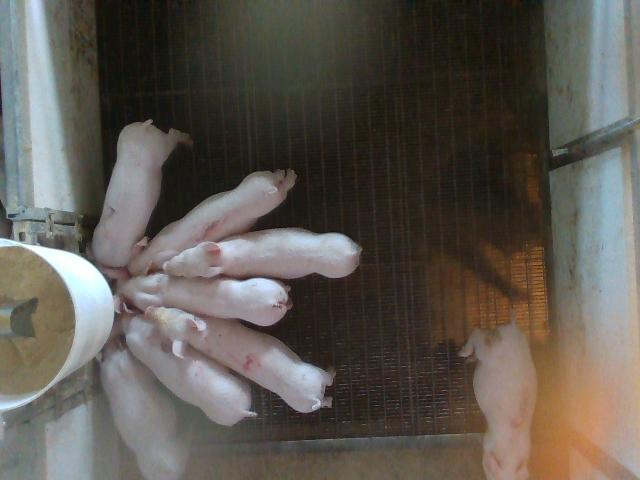pig-1: (128, 169, 295, 276)
pig-3: (459, 321, 538, 479)
pig-4: (145, 308, 334, 412)
